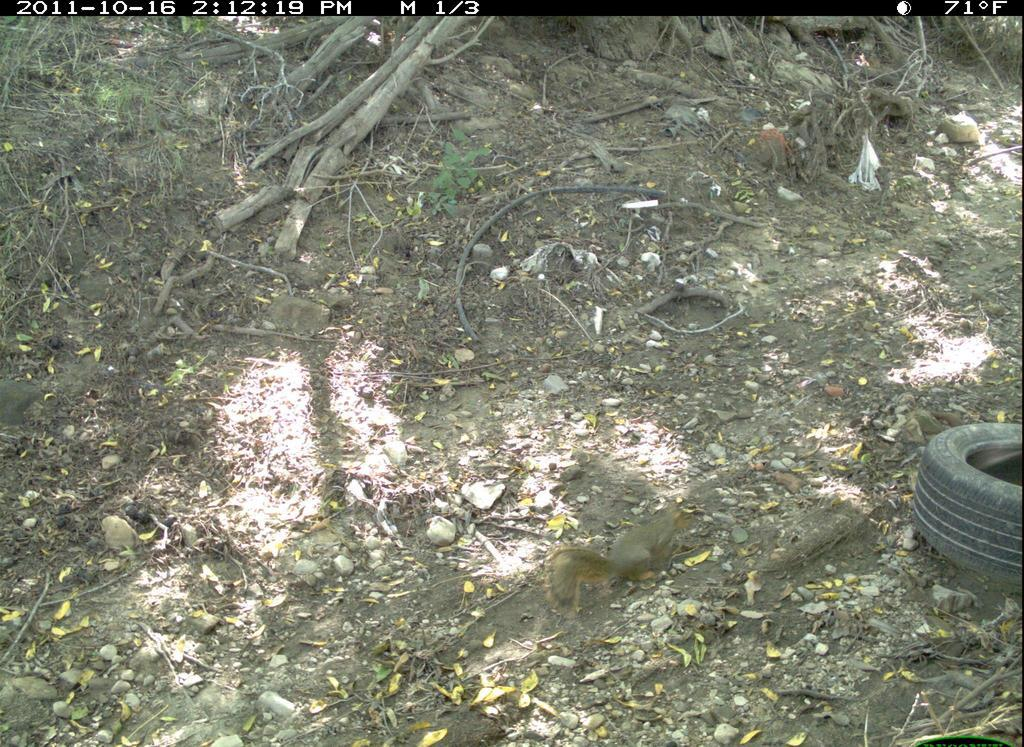squirrel: (539, 492, 713, 621)
